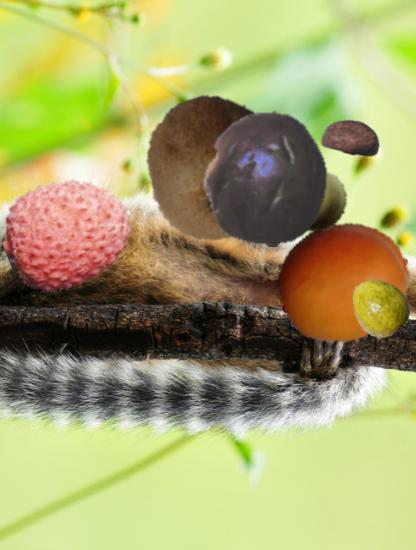Apricot: (277, 214, 411, 348)
Chestnut: (322, 107, 383, 168)
Guava: (348, 276, 411, 339)
Kiwi: (138, 97, 285, 244)
Lychee: (3, 168, 133, 298)
Passion: (196, 108, 336, 248)
Peach: (200, 121, 348, 269)
